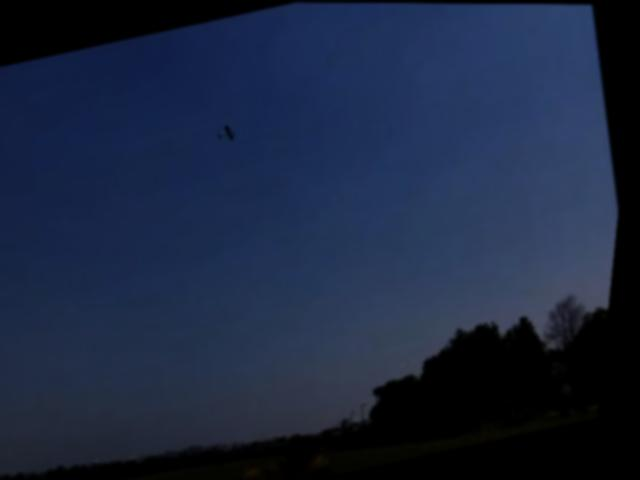uav: (217, 121, 242, 143)
